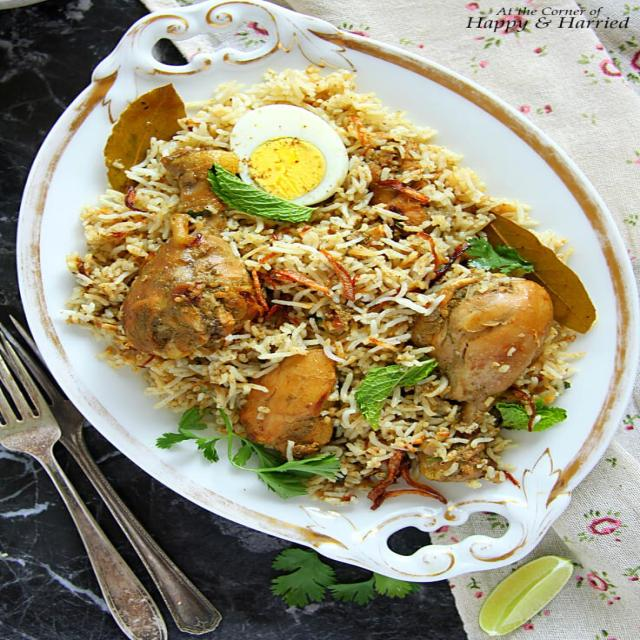chicken biryani: (98, 86, 544, 498)
